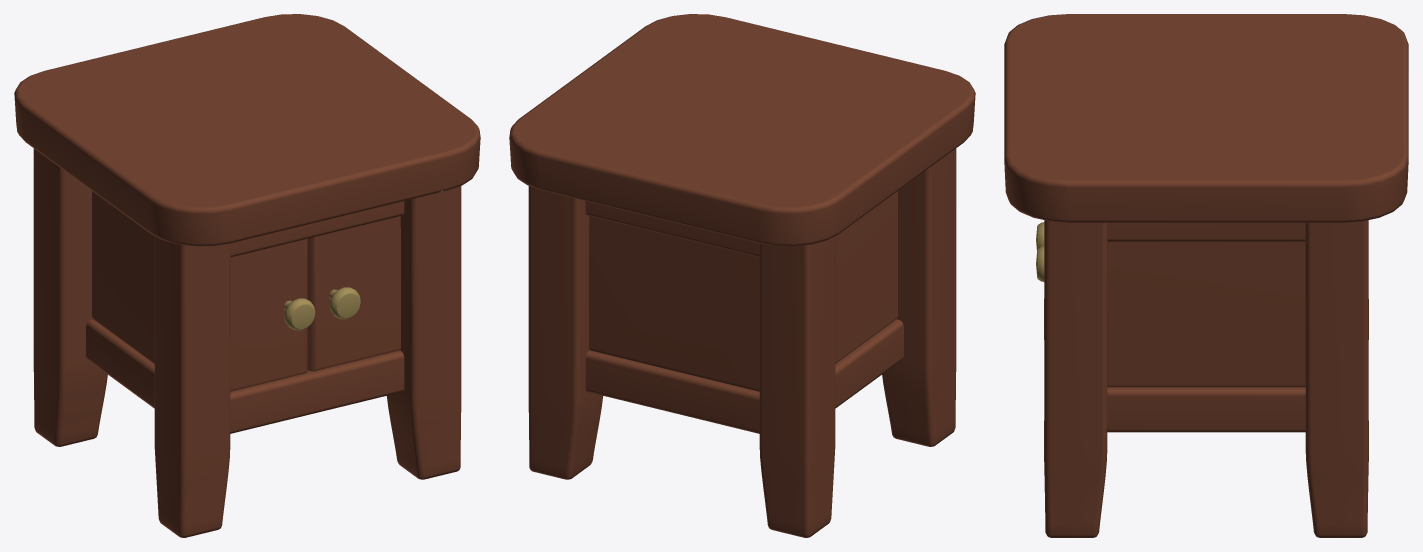
The model's file is Cabinet.glb.
3 views of the same model, side by side, from view 1: azimuth 30°, elevation 25°; view 2: azimuth 150°, elevation 25°; view 3: azimuth 270°, elevation 25° (orthographic). The views are drawn at different scales.
Visible parts, largest first — view 1: Cabinet; view 2: Cabinet; view 3: Cabinet.
Boxes of the visible parts, box(x1,y1,x2,y2) form: Cabinet: box(14, 14, 480, 537); Cabinet: box(509, 14, 975, 537); Cabinet: box(1004, 14, 1408, 537).
Size of the model in its own units: 0.624 by 0.6296 by 0.6254.
Materials: 1 (1 with a texture image).
